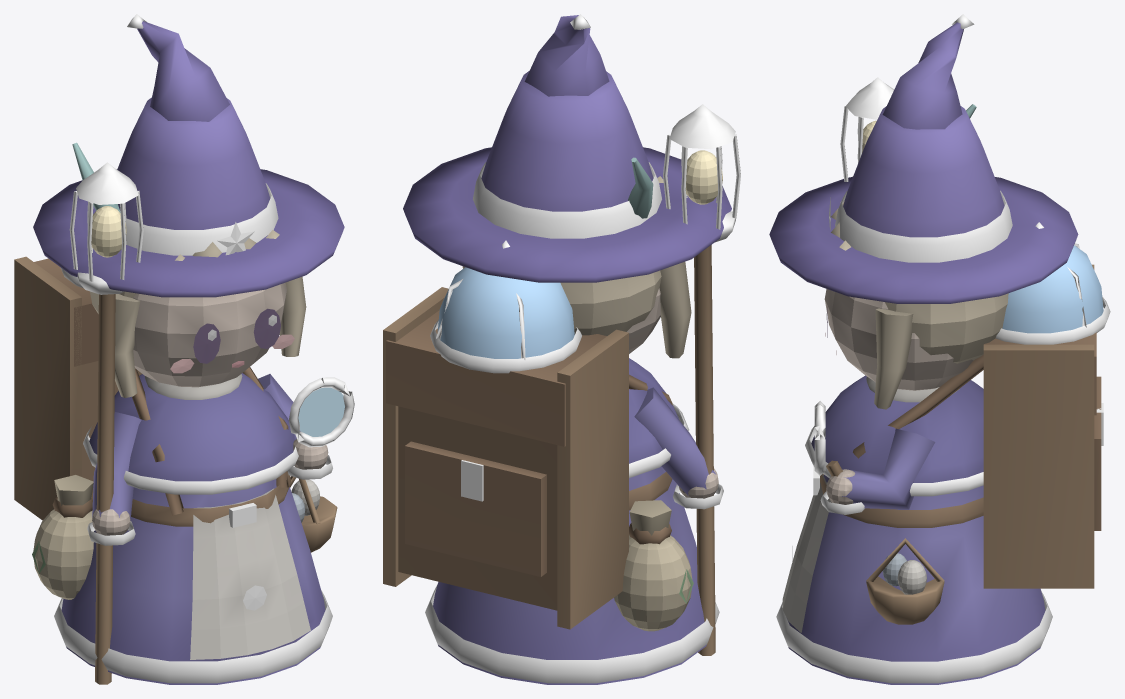
The model's file is pet_merchant_hq.glb.
3 renders of one model, left to right at view 1: azimuth 30°, elevation 25°; view 2: azimuth 150°, elevation 25°; view 3: azimuth 270°, elevation 25°, orthographic. The views are drawn at different scales.
Parts seen in each view (by area): view 1: PetMerchant_props, PetMerchant_gold, PetMerchant_glow; view 2: PetMerchant_props, PetMerchant_gold, PetMerchant_glow; view 3: PetMerchant_props, PetMerchant_gold, PetMerchant_glow.
Boxes of the visible parts, <box> form: PetMerchant_props: <box>14,21,344,684</box>; PetMerchant_gold: <box>54,14,354,683</box>; PetMerchant_glow: <box>91,206,344,436</box>; PetMerchant_props: <box>383,15,731,684</box>; PetMerchant_gold: <box>425,14,740,683</box>; PetMerchant_glow: <box>437,150,722,358</box>; PetMerchant_props: <box>769,22,1101,684</box>; PetMerchant_gold: <box>776,14,1110,683</box>; PetMerchant_glow: <box>862,120,1103,333</box>.
Bounding box in the file's own units: 0.661 × 1.5 × 0.74.
